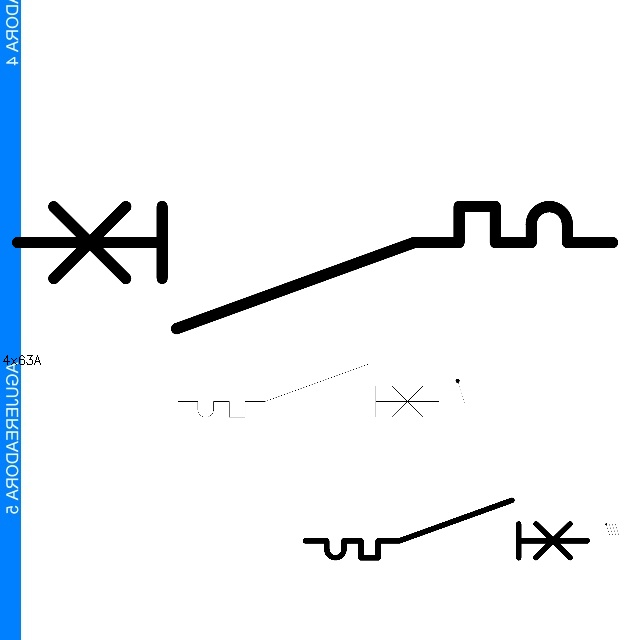interruptor_termomagnetico: (2, 191, 628, 344), (298, 493, 594, 565), (171, 357, 446, 424)
